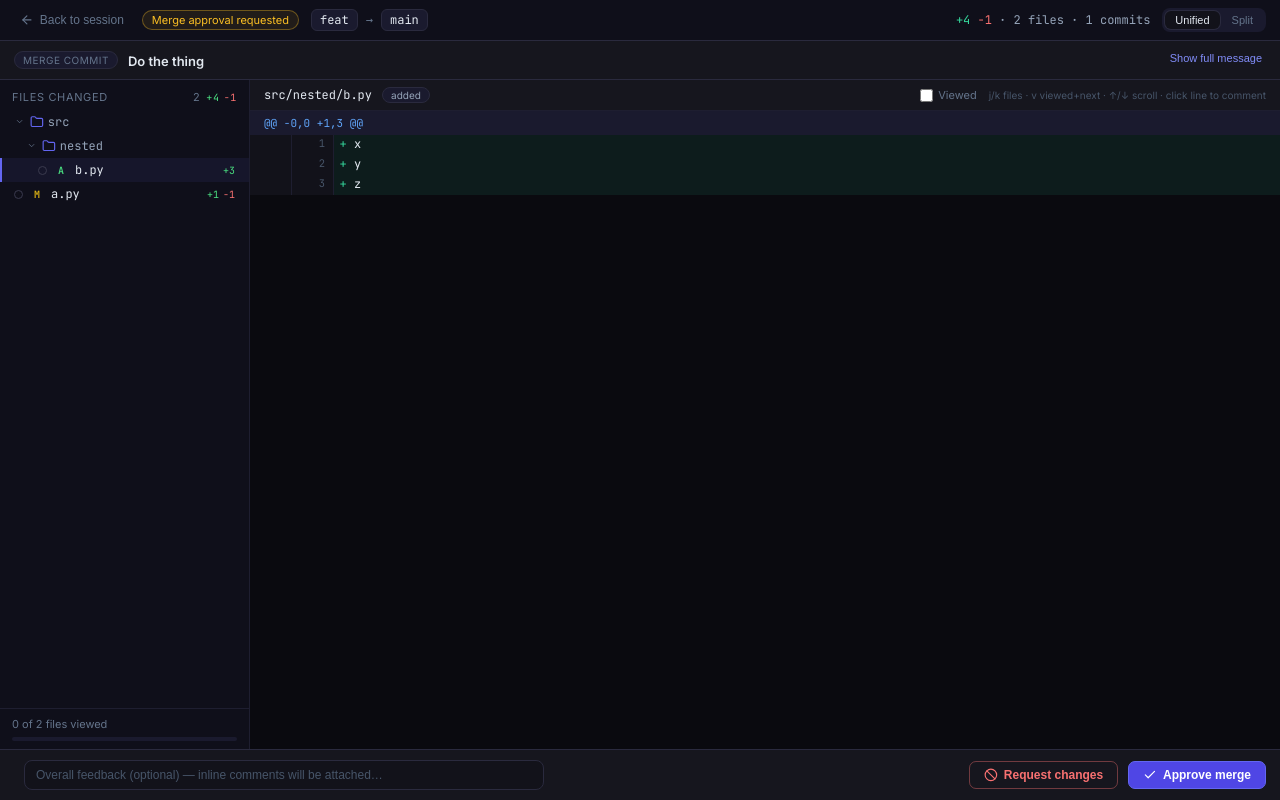
Test: MergeReviewTakeover › shows the merge commit message prominently with expandable body
Expected: the text "feat" is shown, [311, 9, 358, 31]
Expected: the text "Do the thing" is shown, [128, 53, 204, 69]
Click the button "Show full message" at (1216, 58), box [1166, 50, 1266, 66]
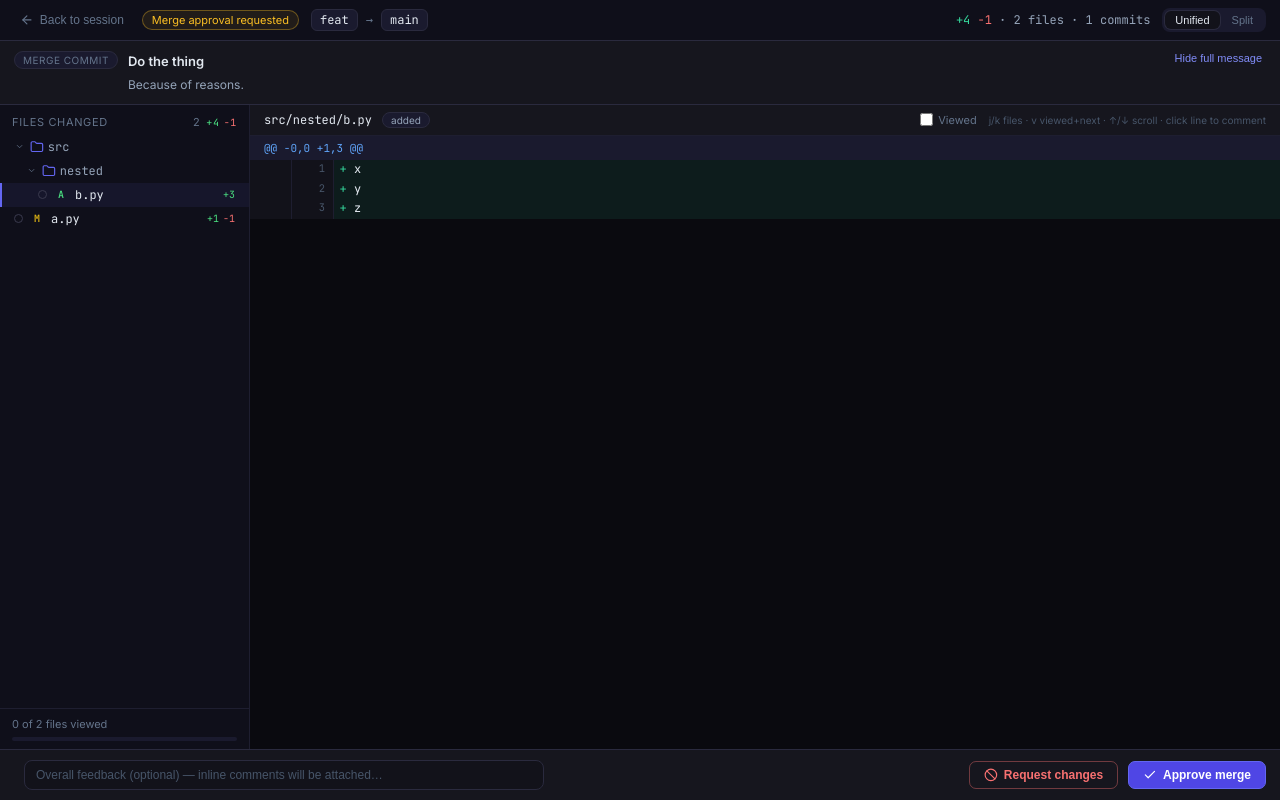
Expected: the text "Because of reasons." is shown, [128, 77, 244, 92]
Click the button "Hide full message" at (1218, 58), box [1171, 50, 1266, 66]
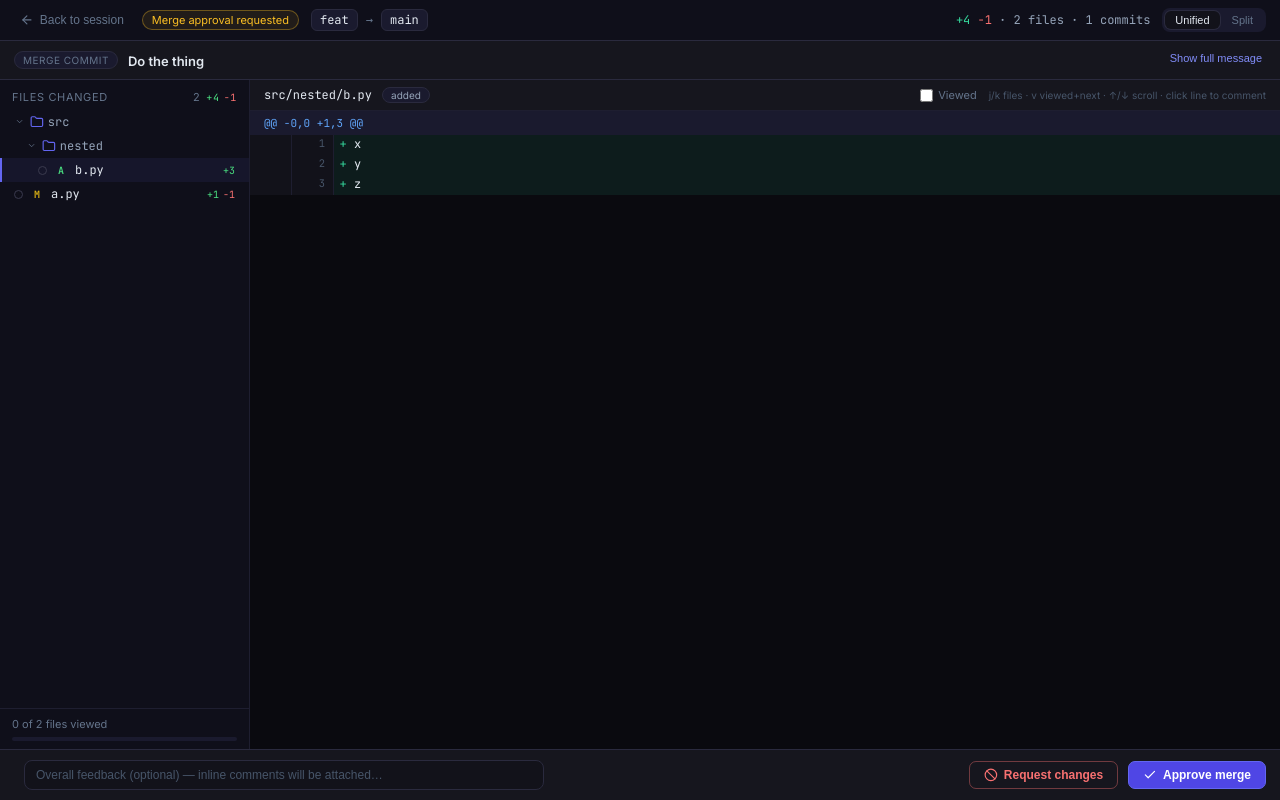
Expected: the text "Because of reasons." is gone
